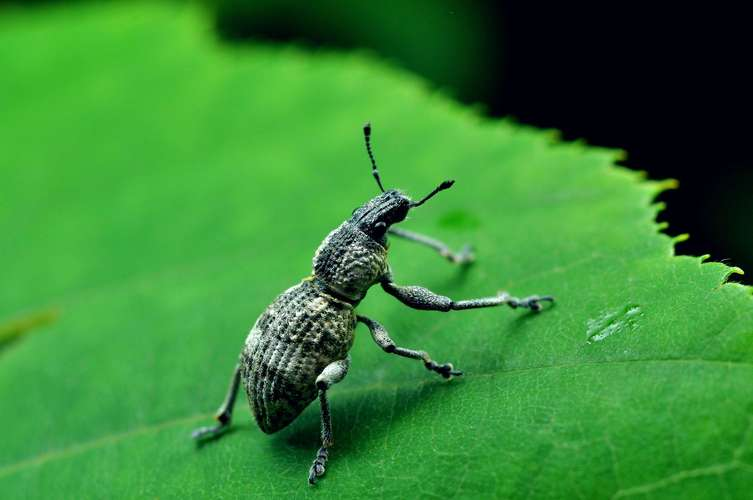Curculionidae: (188, 120, 556, 486)
